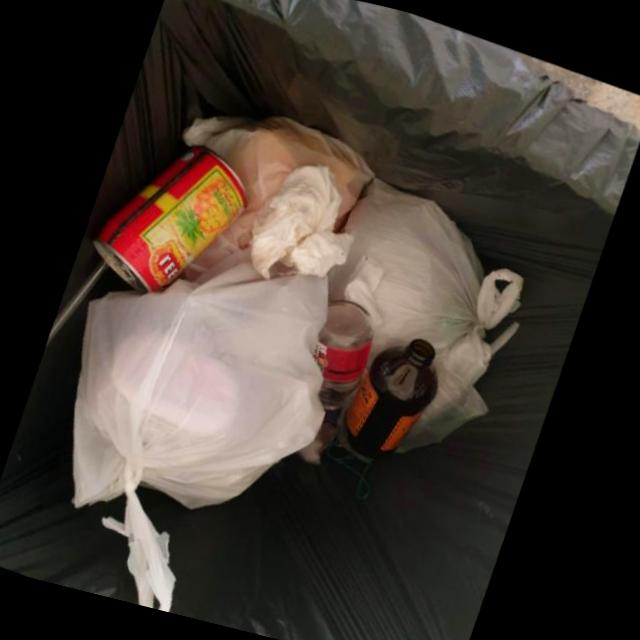chai_thuy_tinh: (345, 338, 441, 458), (316, 298, 377, 409)
giay: (253, 162, 358, 278)
nhom: (96, 143, 251, 290)
ong_hut_nhua: (48, 250, 118, 345)
tui_ni_long: (74, 245, 332, 612), (331, 177, 527, 452)
